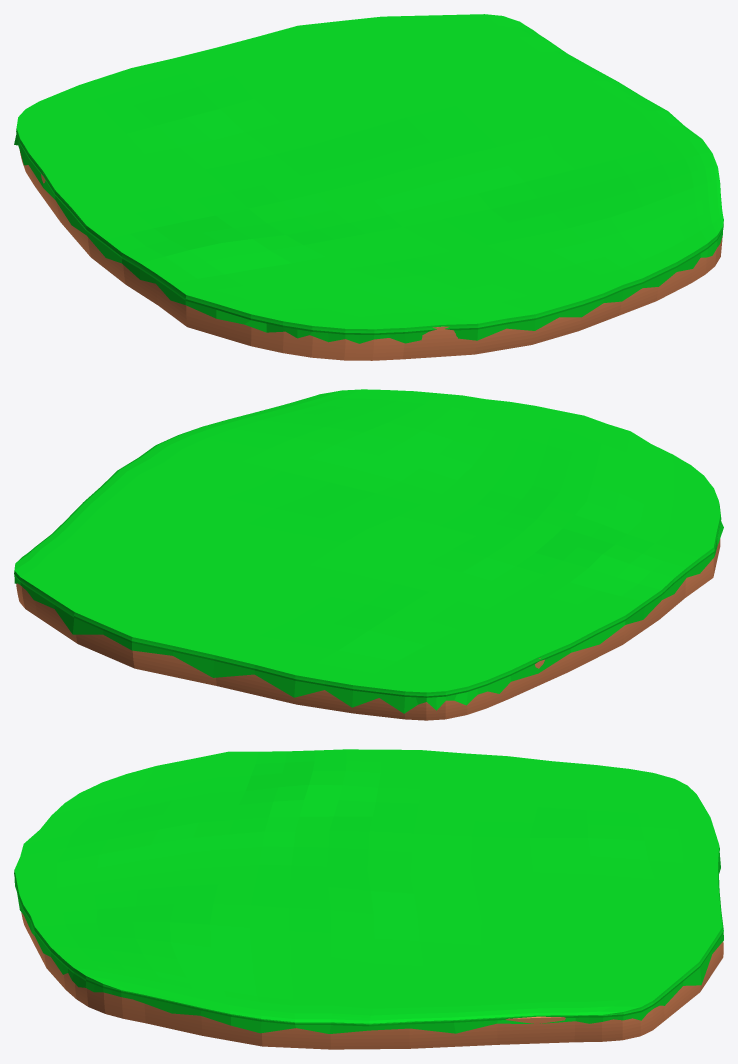
The model's file is Platform04.fbx.
3 renders of one model, top to bottom at view 1: azimuth 30°, elevation 25°; view 2: azimuth 150°, elevation 25°; view 3: azimuth 270°, elevation 25°, orthographic. The views are drawn at different scales.
Parts seen in each view (by area): view 1: Cube.009; view 2: Cube.009; view 3: Cube.009.
Part boxes in pixels (left/top/right/bottom): Cube.009: left=14, top=14, right=723, bottom=360; Cube.009: left=14, top=389, right=723, bottom=720; Cube.009: left=14, top=749, right=723, bottom=1049.
Bounding box in the file's own units: 7273 × 448 × 8035.
